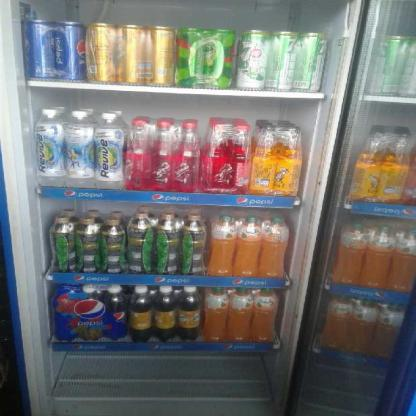7up: (237, 31, 267, 90), (295, 34, 325, 92), (266, 31, 295, 90)
mirinda-xaxi-chai: (153, 286, 177, 343), (128, 286, 152, 342), (178, 286, 201, 342)
olong-tea-chai: (154, 213, 181, 276), (47, 216, 77, 272), (126, 213, 152, 274), (76, 218, 104, 274), (180, 214, 206, 274), (100, 218, 127, 274)
pepsi-blue: (23, 20, 55, 79), (55, 21, 85, 81)
revive-white-chai: (93, 112, 126, 188), (35, 109, 66, 185), (66, 111, 94, 189)
sting-red-chai: (126, 118, 152, 191), (204, 123, 228, 194), (227, 124, 250, 194), (175, 122, 198, 191), (152, 121, 173, 192)
sting-yellow-chai: (276, 127, 300, 195), (252, 126, 274, 194)
twister-cam: (260, 218, 289, 277), (210, 214, 235, 278), (203, 288, 228, 343), (236, 217, 258, 276), (229, 288, 253, 342), (254, 289, 277, 343)
